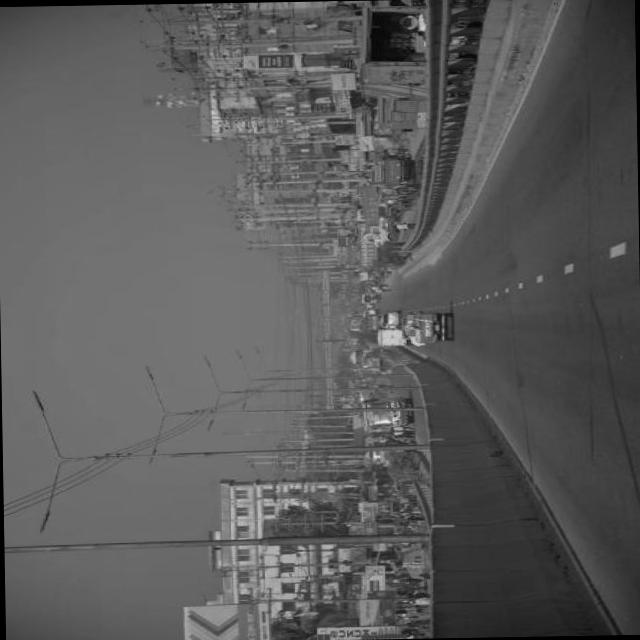bus: (357, 394, 406, 426), (342, 312, 362, 330), (357, 290, 375, 300)
car: (376, 308, 396, 324)
motorcycle: (386, 195, 416, 209)
truck: (353, 0, 466, 96), (373, 96, 422, 129), (399, 308, 450, 339), (351, 207, 373, 266), (366, 186, 390, 239), (367, 156, 409, 184), (384, 494, 406, 526), (372, 326, 402, 346), (357, 350, 378, 370), (368, 447, 388, 463)
